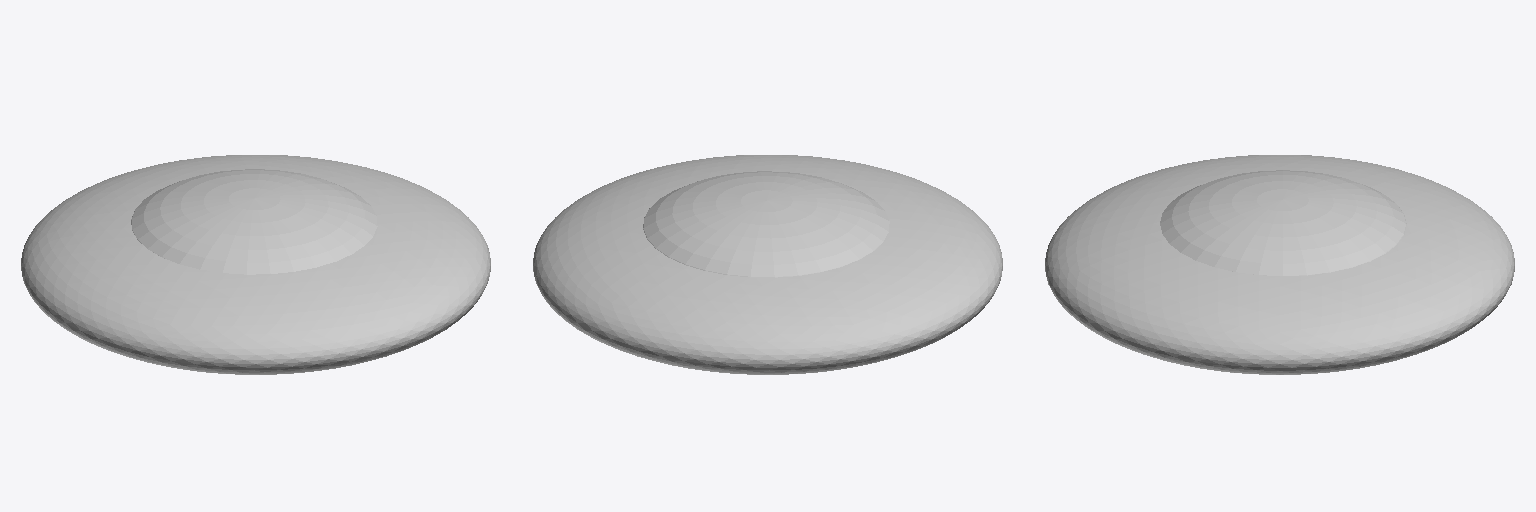
Rendered from myriad.obj.
The picture shows the model from 3 angles: view 1: azimuth 30°, elevation 25°; view 2: azimuth 150°, elevation 25°; view 3: azimuth 270°, elevation 25°; orthographic projection.
Visible parts, largest first — view 1: GeoSphere01; view 2: GeoSphere01; view 3: GeoSphere01.
Part boxes in pixels (x1,y1,x2,y2): GeoSphere01: (21, 155, 490, 374); GeoSphere01: (533, 155, 1002, 374); GeoSphere01: (1045, 155, 1514, 374).
Bounding box in the file's own units: 128 × 33.91 × 128.